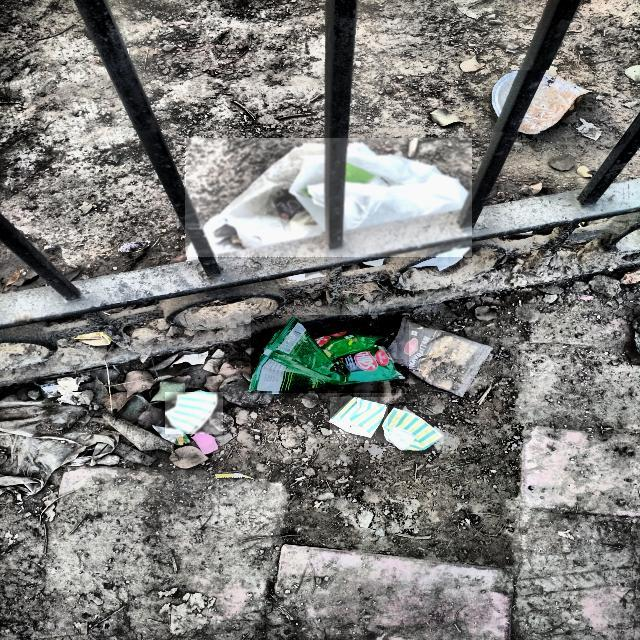anorganik: (188, 139, 472, 256), (253, 316, 409, 392), (491, 70, 590, 132), (384, 406, 444, 453), (331, 397, 389, 442), (165, 392, 222, 434)
